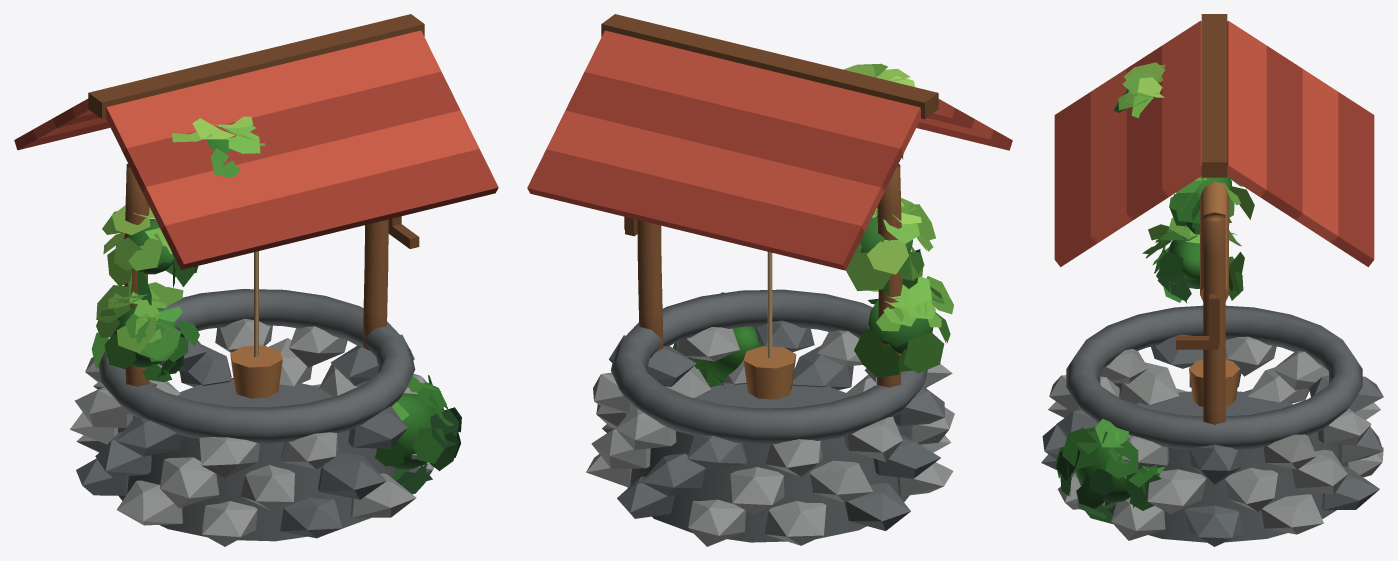
The model's file is Well.glb.
3 views of the same model, side by side, from view 1: azimuth 30°, elevation 25°; view 2: azimuth 150°, elevation 25°; view 3: azimuth 270°, elevation 25° (orthographic). The views are drawn at different scales.
Visible parts, largest first — view 1: Body, Bucket; view 2: Body, Bucket; view 3: Body, Bucket.
Part boxes in pixels (x1,y1,x2,y2): Body: [14, 14, 498, 546]; Bucket: [230, 251, 282, 398]; Body: [527, 14, 1012, 546]; Bucket: [743, 252, 796, 399]; Body: [1041, 14, 1383, 546]; Bucket: [1189, 360, 1239, 406].
Bounding box in the file's own units: 4.21 × 5.12 × 4.01.
Materials: 2 (2 with a texture image).
